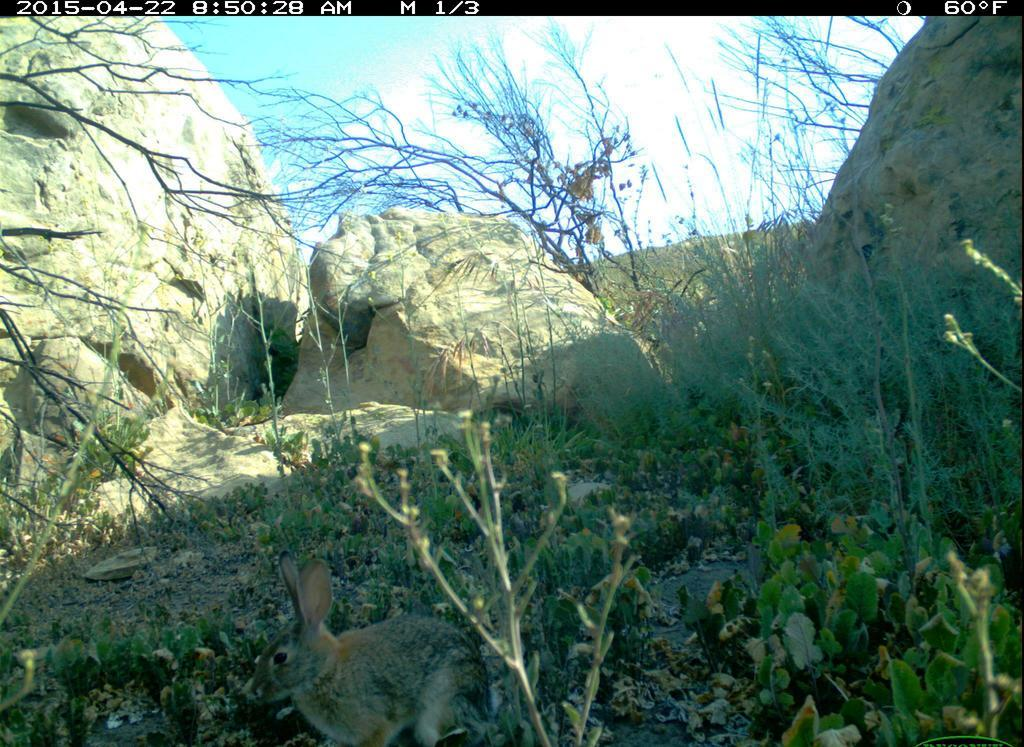rabbit: (246, 545, 504, 747)
